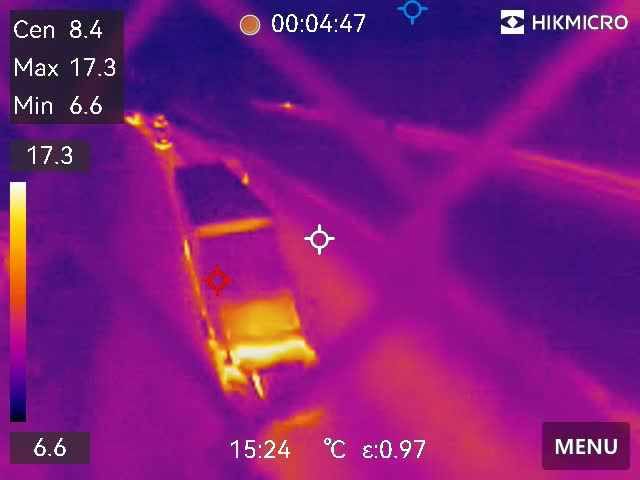heavyTruck: (169, 156, 327, 404)
